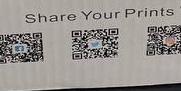2d: (71, 28, 119, 61)
